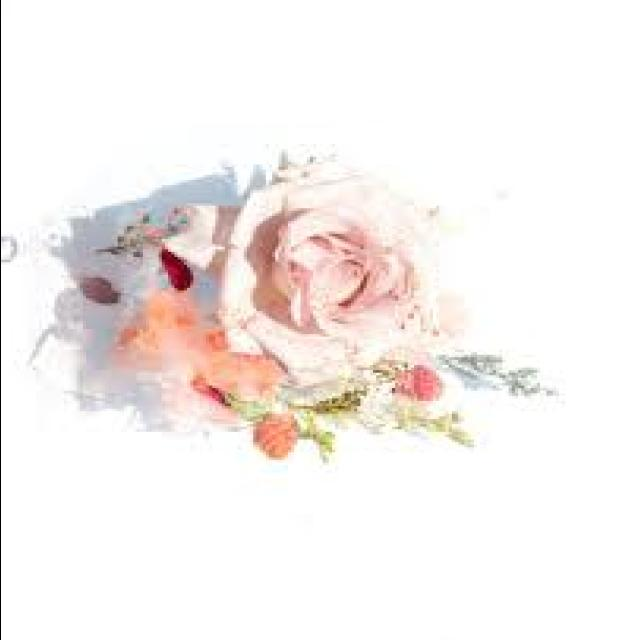rose: (185, 150, 457, 410)
